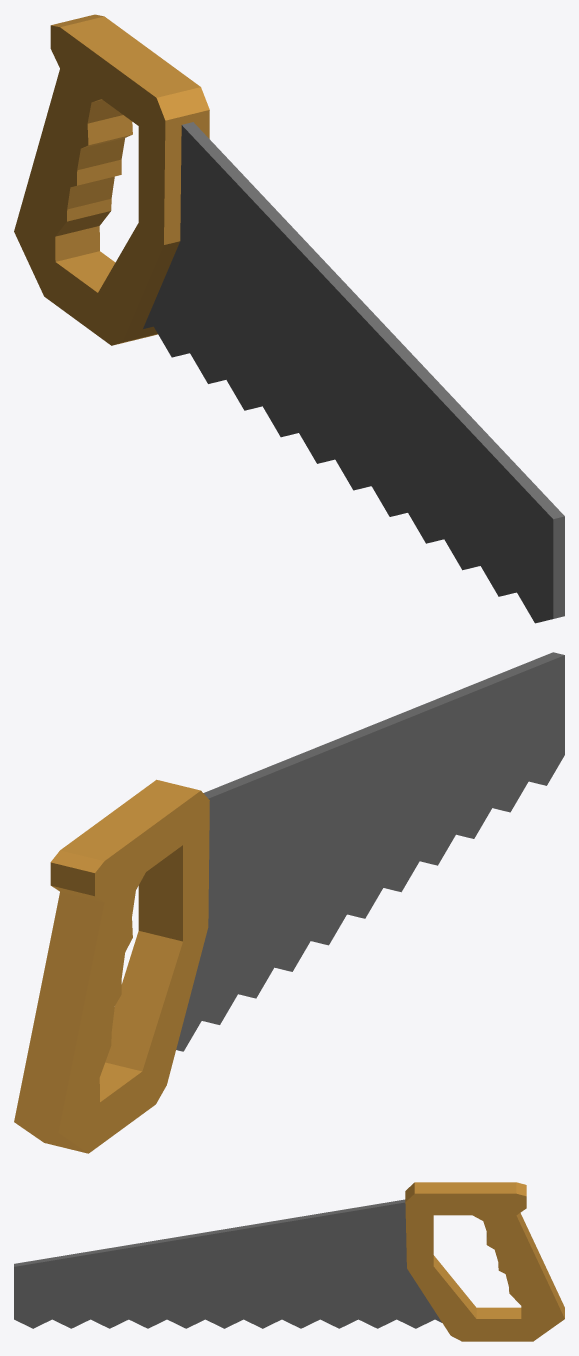
The model's file is SM_Tool_Handsaw_02.fbx.
3 views of the same model, one above another, from view 1: azimuth 30°, elevation 25°; view 2: azimuth 150°, elevation 25°; view 3: azimuth 270°, elevation 25° (orthographic). The views are drawn at different scales.
Visible parts, largest first — view 1: SM_Tool_Handsaw_02; view 2: SM_Tool_Handsaw_02; view 3: SM_Tool_Handsaw_02.
Boxes of the visible parts, x1,y1,x2,y2 form: SM_Tool_Handsaw_02: (14, 14, 564, 623); SM_Tool_Handsaw_02: (14, 652, 564, 1153); SM_Tool_Handsaw_02: (14, 1182, 564, 1341).
Size of the model in its own units: 3.96 by 23.9 by 80.62.
